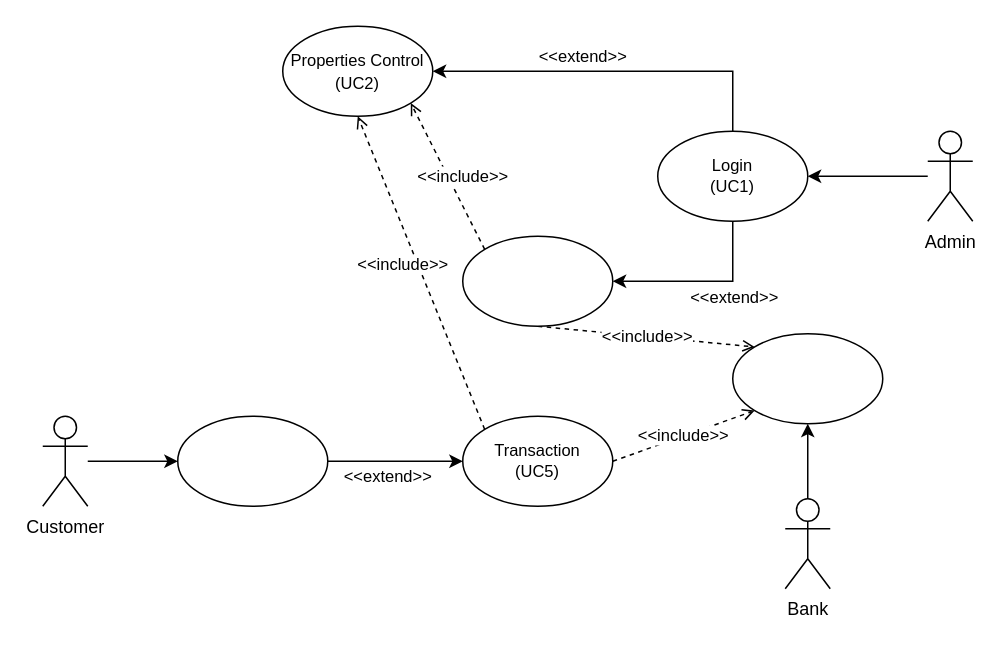
Some shapes in this 1001 by 647 pixel diagram are drawn without their labels. The box of each missing label's shape, as (x1, y1, x2, y2) in pixels:
Add Card Details (UC4): (176, 415, 328, 506)
Refund (UC3): (461, 235, 613, 326)
Transfer Money (UC6): (731, 332, 883, 424)
